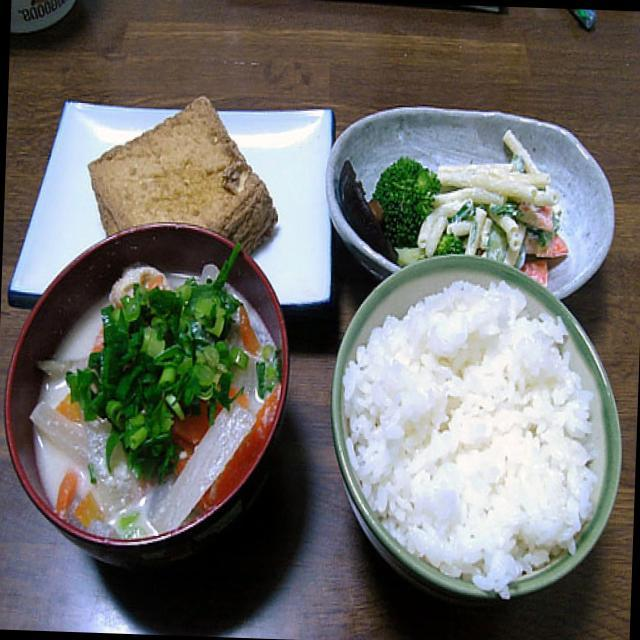Rice: (350, 286, 584, 578)
